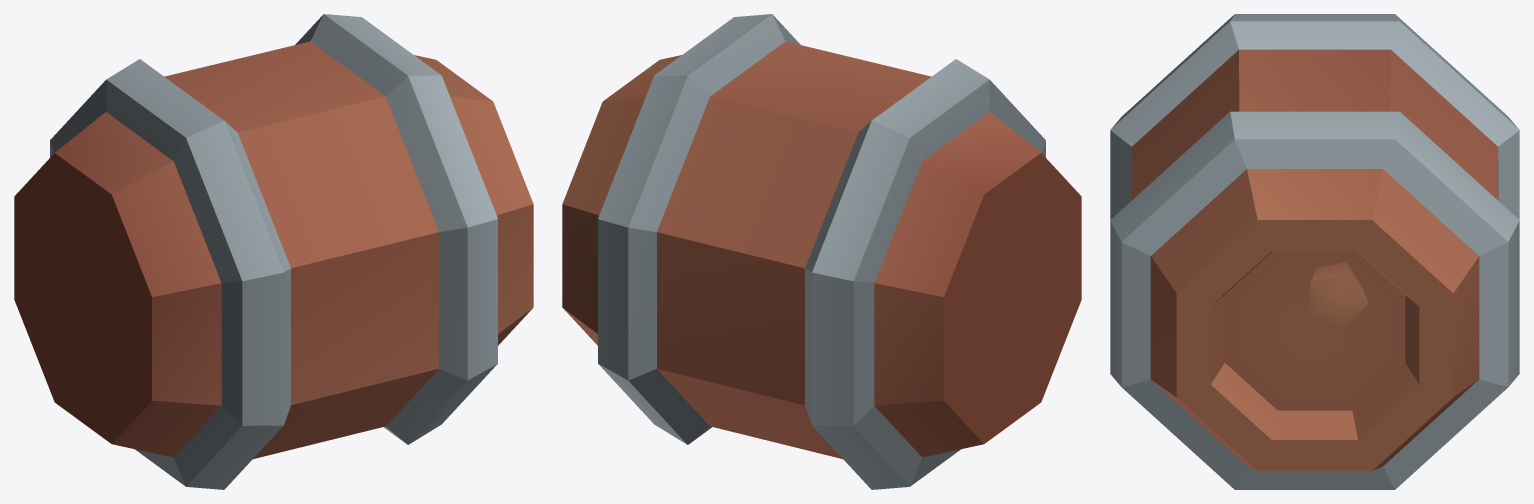
The model's file is letter_barrel.glb.
The picture shows the model from 3 angles, left to right: view 1: azimuth 30°, elevation 25°; view 2: azimuth 150°, elevation 25°; view 3: azimuth 270°, elevation 25°; orthographic projection.
Visible parts, largest first — view 1: barrel_small; view 2: barrel_small; view 3: barrel_small.
Part boxes in pixels (x1,y1,x2,y2): barrel_small: (14, 14, 533, 489); barrel_small: (562, 14, 1081, 489); barrel_small: (1110, 14, 1519, 489).
Size of the model in its own units: 1.02 by 0.9251 by 0.9251.
1 material, 1 textured.
